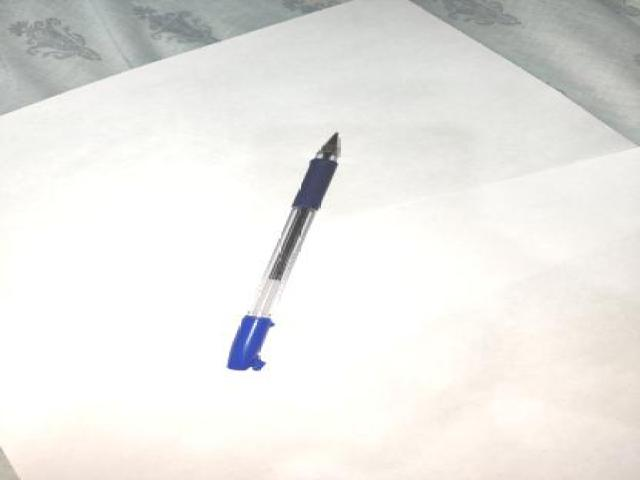PEN: (222, 114, 349, 386)
